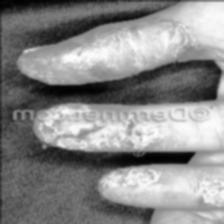Non-Cancerous Skin Condition: (53, 121, 169, 149), (134, 18, 188, 48), (100, 167, 162, 186), (30, 64, 80, 80), (195, 181, 224, 208)
